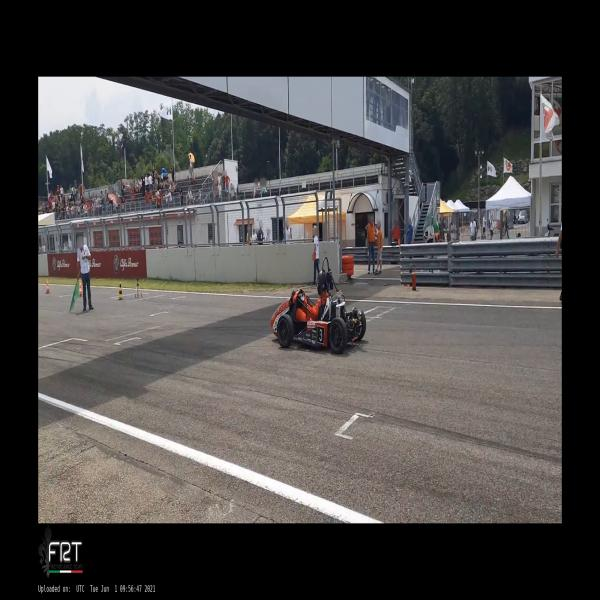large_orange_cone: (45, 278, 51, 294), (80, 280, 83, 296)
unknown_cone: (118, 281, 124, 300)
